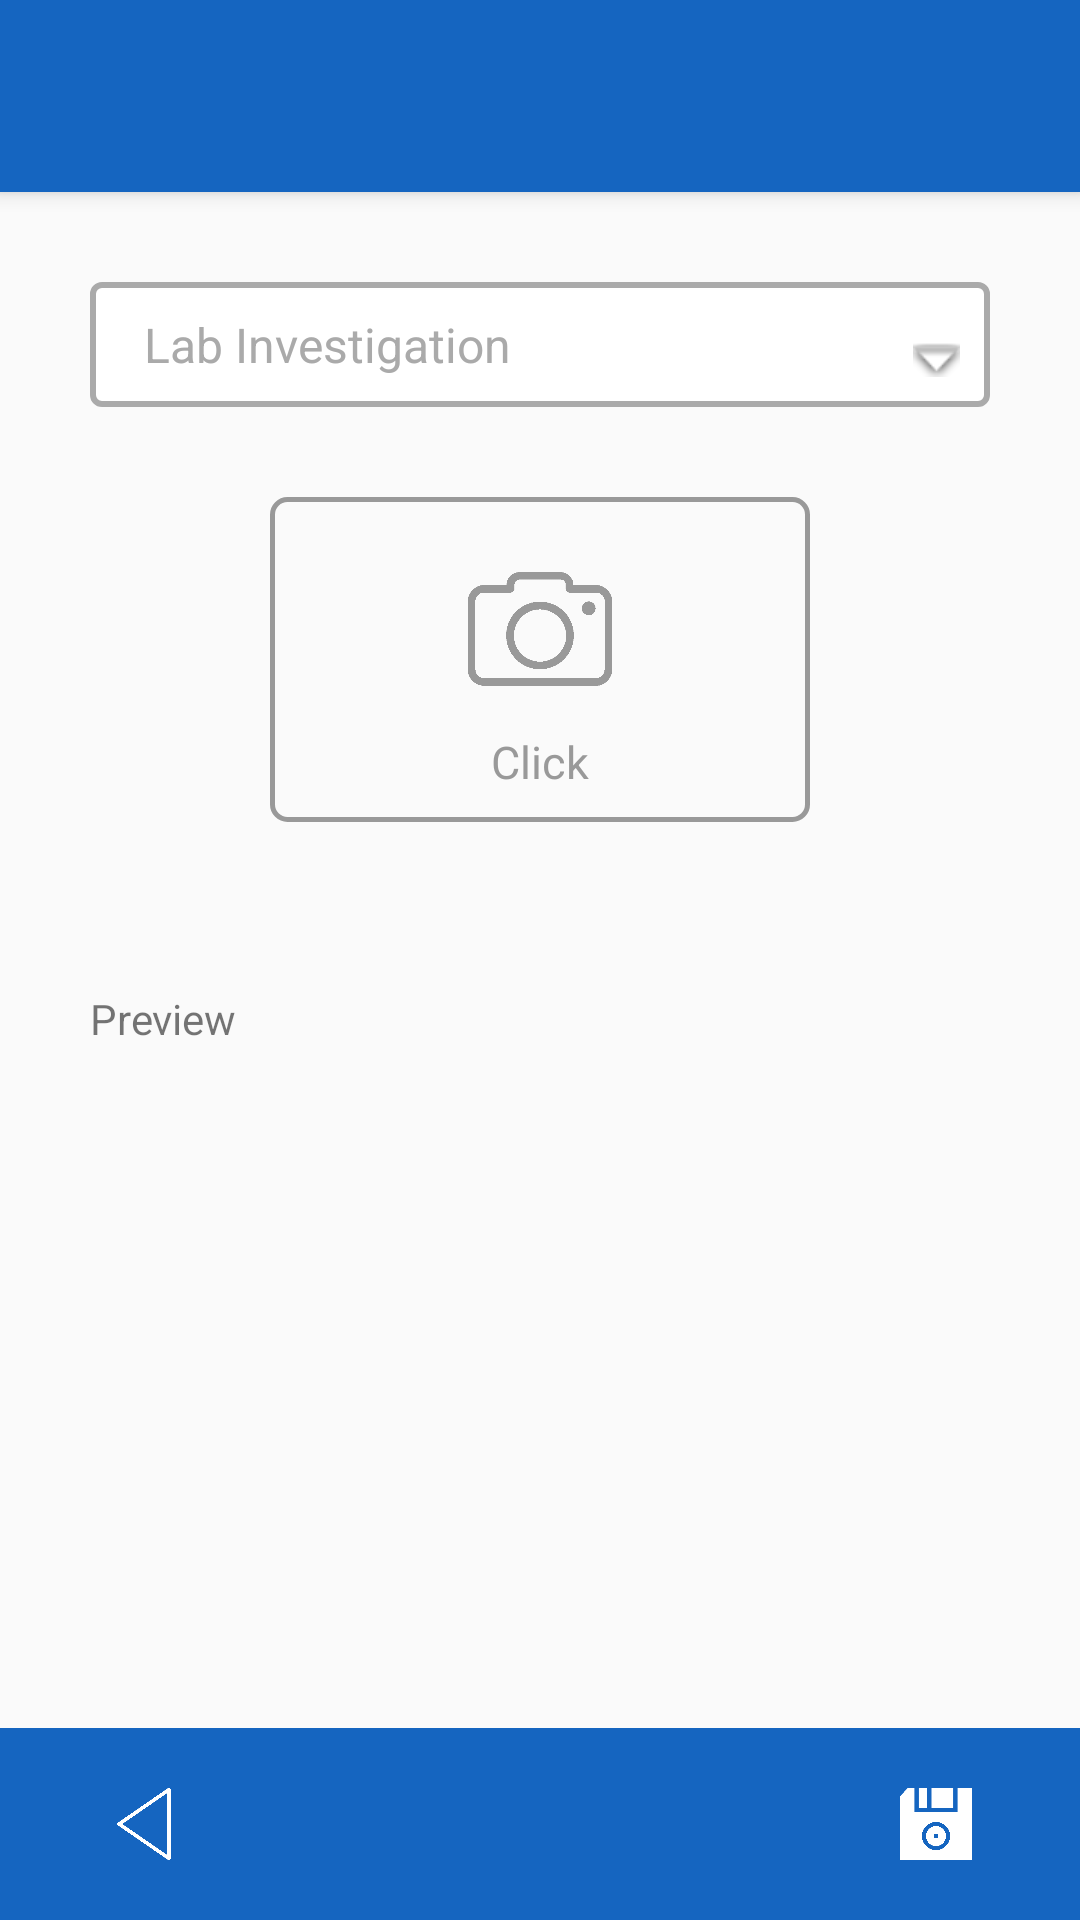

Icons on this 1080x1920 Android screen, each with its box as {"left": x1, "top": y1, "right": x2, "bottom": y2}:
camera: {"left": 468, "top": 572, "right": 612, "bottom": 686}
left: {"left": 117, "top": 1788, "right": 171, "bottom": 1860}
save: {"left": 900, "top": 1788, "right": 972, "bottom": 1860}
